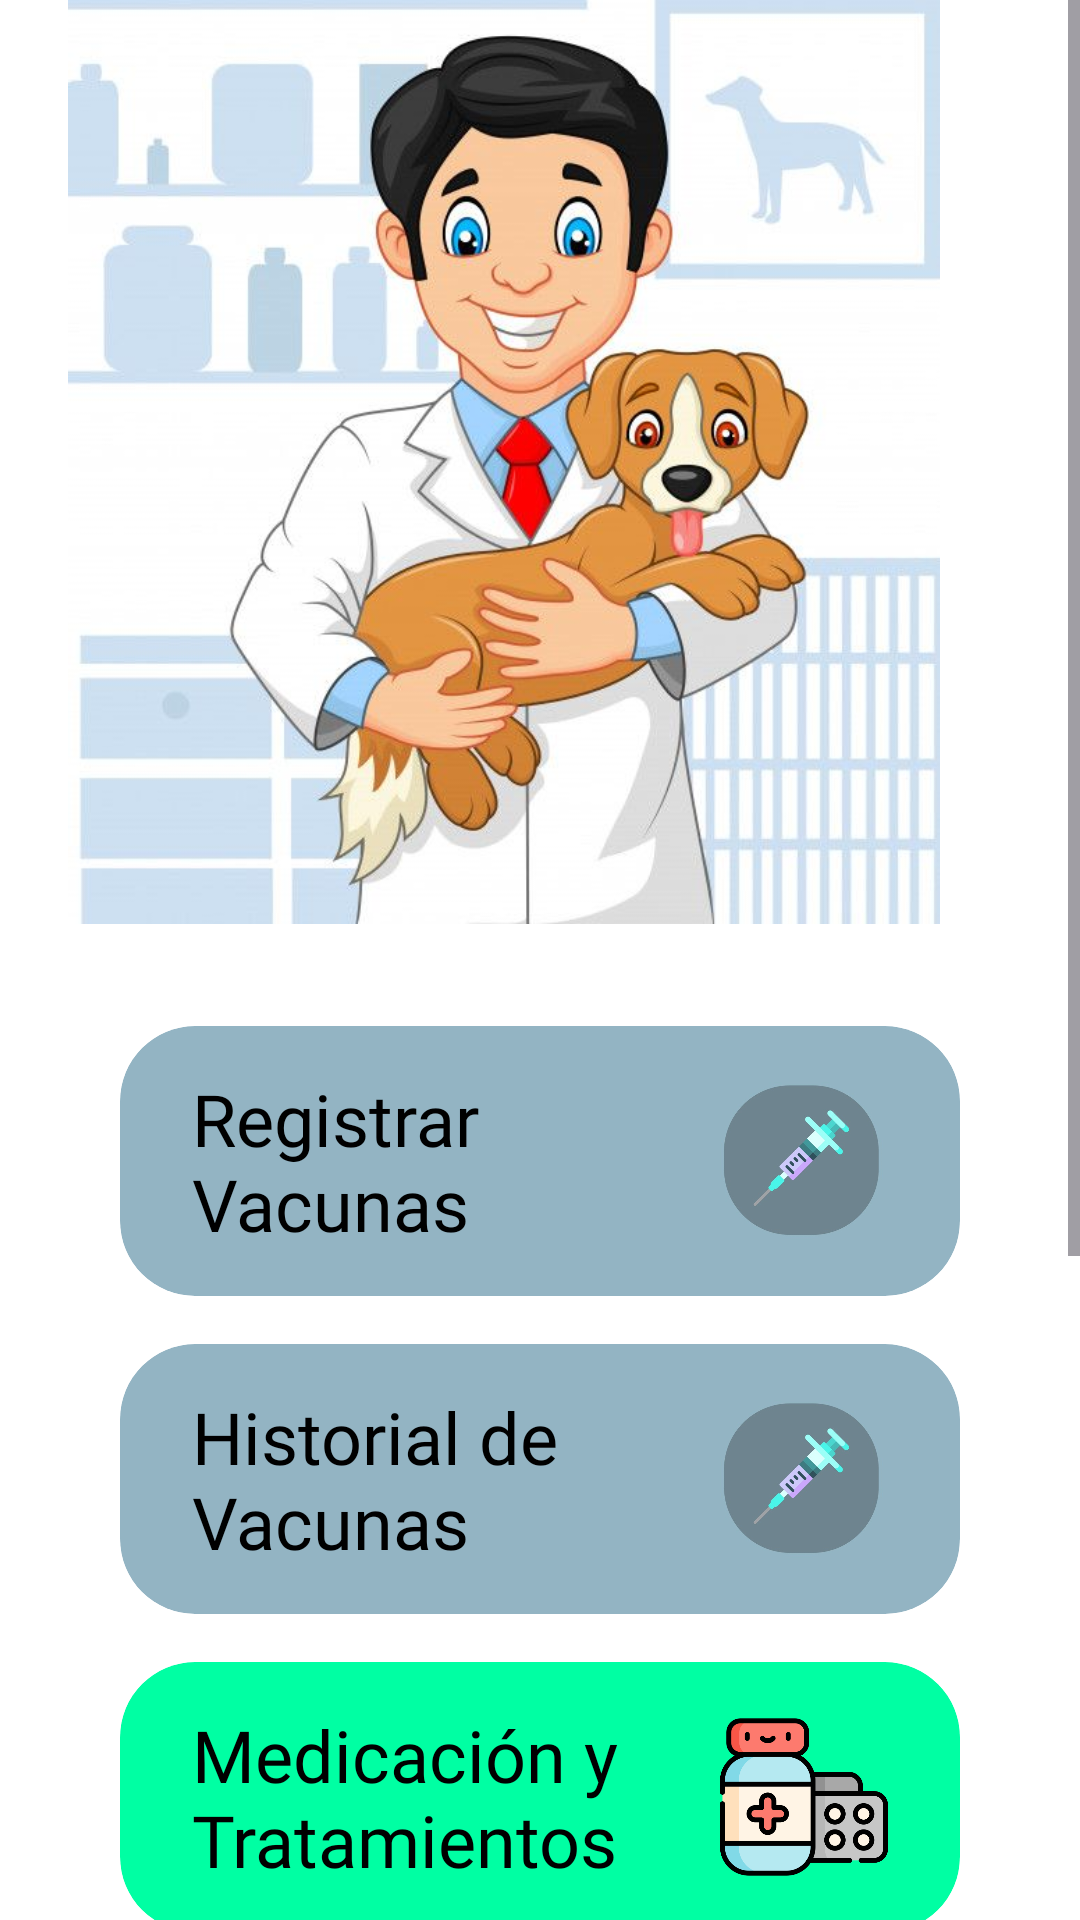

Point at icon controls on the screen. Image size 1080×1920, points as (x,y).
jeringa: (801,1160), (801,1478)
medicamentos: (804,1797)
